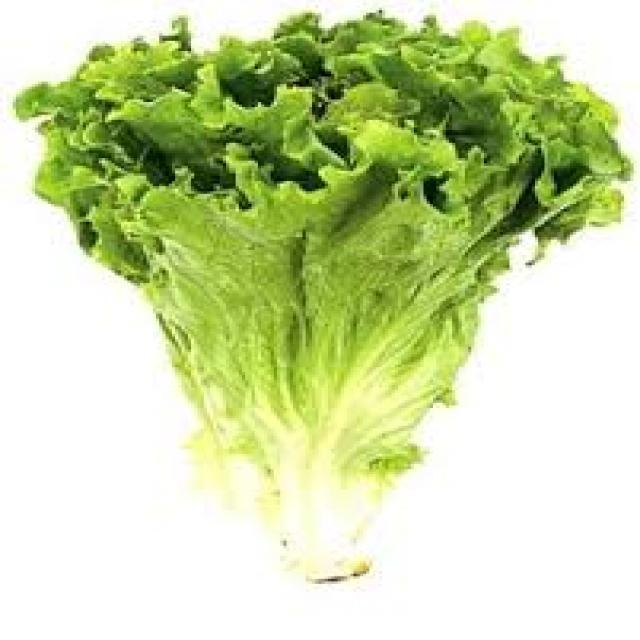Lettuce: (18, 13, 634, 580)
